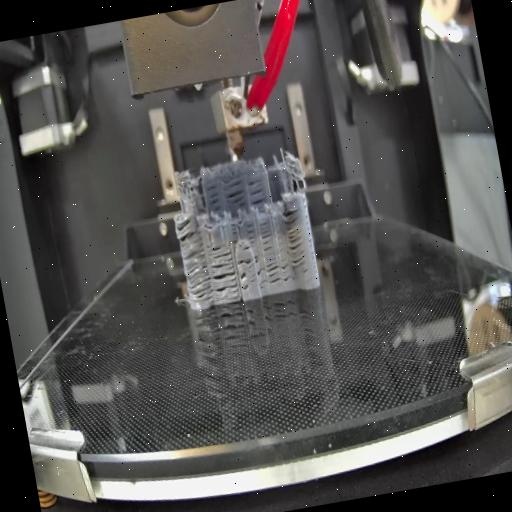cracks: (180, 244, 214, 304), (280, 204, 308, 267), (210, 260, 239, 302), (264, 254, 292, 286), (223, 176, 248, 210), (174, 214, 200, 244), (246, 176, 269, 207), (206, 183, 224, 214), (253, 252, 267, 290), (258, 219, 274, 252), (210, 240, 232, 260), (244, 222, 258, 246), (238, 270, 252, 293), (228, 221, 240, 245), (236, 256, 254, 268), (242, 244, 251, 252)
